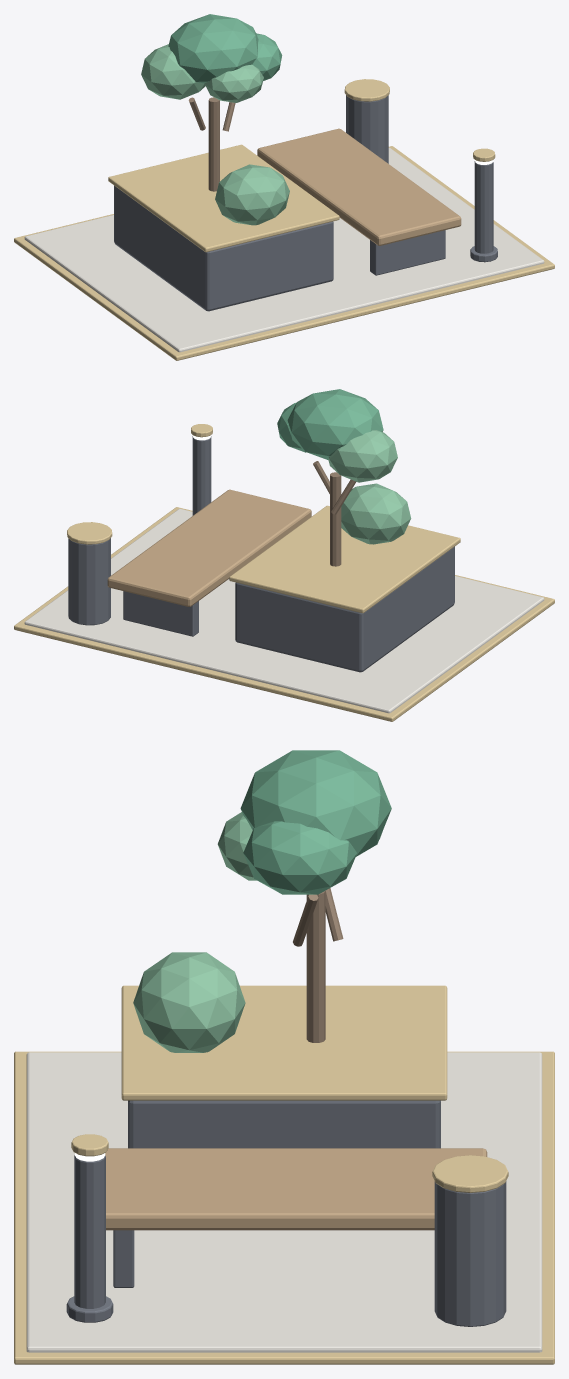
Rendered from plaza_oasis_v27_5.glb.
The picture shows the model from 3 angles, top to bottom: view 1: azimuth 30°, elevation 25°; view 2: azimuth 150°, elevation 25°; view 3: azimuth 270°, elevation 25°; orthographic projection. The views are drawn at different scales.
Parts seen in each view (by area): view 1: V275Mat_OasisStone, V275Mat_OasisSlate, V275Mat_OasisBrass, V275Mat_OasisOak, V275Mat_OasisGreen2, V275Mat_OasisGreen1, V275Mat_OasisBark; view 2: V275Mat_OasisStone, V275Mat_OasisSlate, V275Mat_OasisBrass, V275Mat_OasisOak, V275Mat_OasisGreen2, V275Mat_OasisGreen1, V275Mat_OasisBark; view 3: V275Mat_OasisStone, V275Mat_OasisBrass, V275Mat_OasisSlate, V275Mat_OasisOak, V275Mat_OasisGreen1, V275Mat_OasisGreen2, V275Mat_OasisBark.
Part boxes in pixels (x1,y1,x2,y2): V275Mat_OasisStone: (24, 147, 544, 352); V275Mat_OasisSlate: (114, 95, 497, 311); V275Mat_OasisBrass: (14, 79, 554, 360); V275Mat_OasisOak: (257, 128, 461, 245); V275Mat_OasisGreen2: (141, 44, 289, 225); V275Mat_OasisGreen1: (168, 14, 282, 83); V275Mat_OasisBark: (188, 97, 235, 191); V275Mat_OasisStone: (24, 508, 544, 713); V275Mat_OasisSlate: (68, 436, 454, 672); V275Mat_OasisBrass: (14, 424, 554, 721); V275Mat_OasisOak: (107, 489, 311, 606); V275Mat_OasisGreen2: (328, 430, 411, 544); V275Mat_OasisGreen1: (277, 389, 383, 460); V275Mat_OasisBark: (313, 461, 356, 566); V275Mat_OasisStone: (26, 1052, 542, 1352); V275Mat_OasisBrass: (14, 985, 554, 1364); V275Mat_OasisSlate: (66, 1100, 506, 1326); V275Mat_OasisOak: (105, 1148, 487, 1230); V275Mat_OasisGreen1: (240, 750, 391, 894); V275Mat_OasisGreen2: (133, 812, 381, 1052); V275Mat_OasisBark: (293, 888, 343, 1042).
Bounding box in the file's own units: 3.44 × 2.12 × 2.56.
